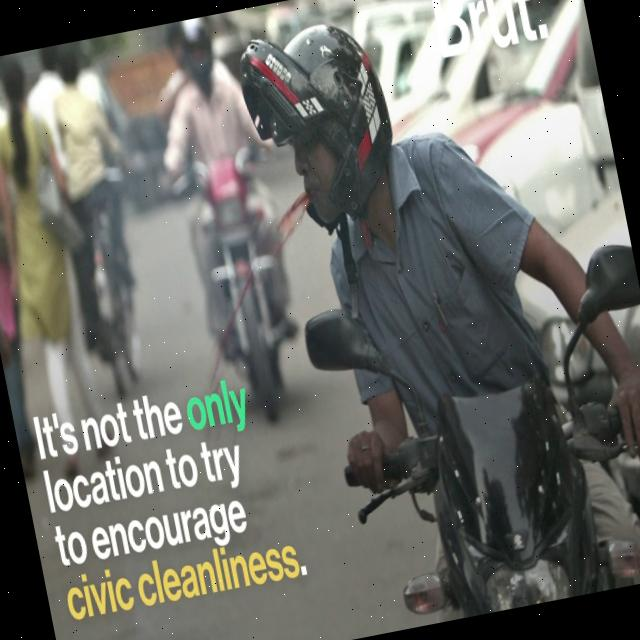spit: (197, 161, 347, 407)
